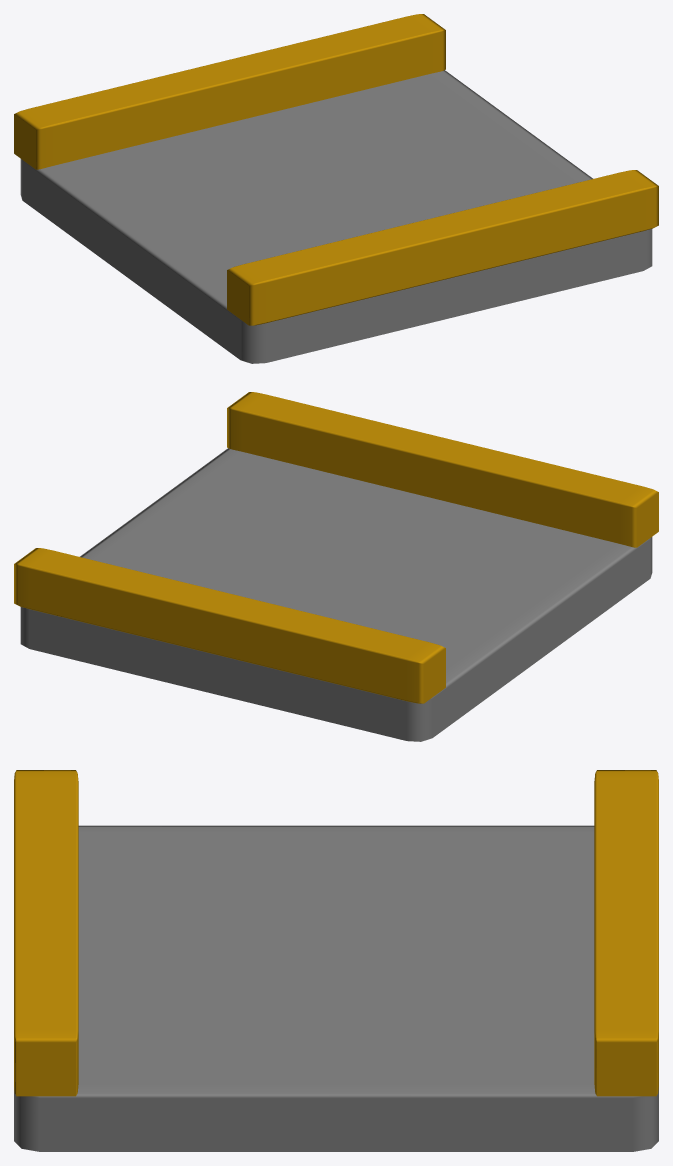
File: PathNode.obj
3 views of the same model, one above another, from view 1: azimuth 30°, elevation 25°; view 2: azimuth 150°, elevation 25°; view 3: azimuth 270°, elevation 25° (orthographic). The views are drawn at different scales.
Visible parts, largest first — view 1: 002_Box_1_-_baked, 000_Box_2_-_baked, 001_Box_-_baked; view 2: 002_Box_1_-_baked, 001_Box_-_baked, 000_Box_2_-_baked; view 3: 002_Box_1_-_baked, 000_Box_2_-_baked, 001_Box_-_baked.
Part boxes in pixels (bbox=[...]): 002_Box_1_-_baked: bbox=[20, 70, 652, 363]; 000_Box_2_-_baked: bbox=[227, 170, 658, 325]; 001_Box_-_baked: bbox=[14, 14, 445, 169]; 002_Box_1_-_baked: bbox=[20, 448, 652, 741]; 001_Box_-_baked: bbox=[14, 548, 445, 703]; 000_Box_2_-_baked: bbox=[227, 392, 658, 547]; 002_Box_1_-_baked: bbox=[14, 825, 658, 1151]; 000_Box_2_-_baked: bbox=[14, 770, 78, 1096]; 001_Box_-_baked: bbox=[594, 770, 658, 1096].
Bounding box in the file's own units: 100 × 19.51 × 100.
